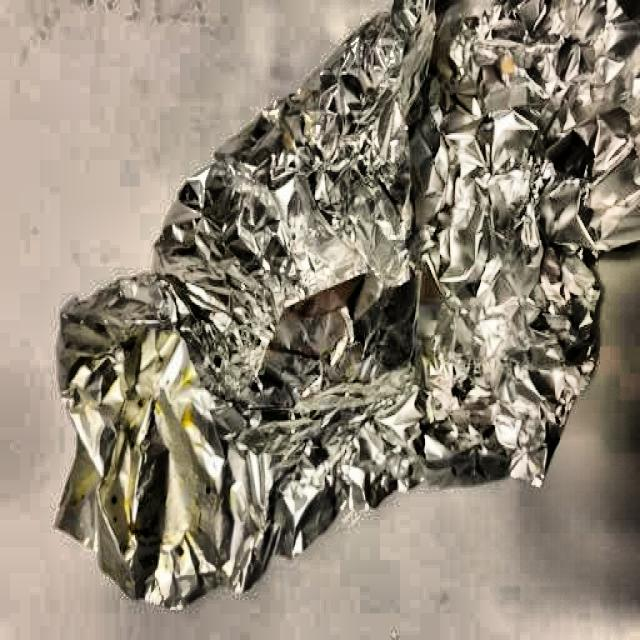metal: (34, 2, 640, 600)
